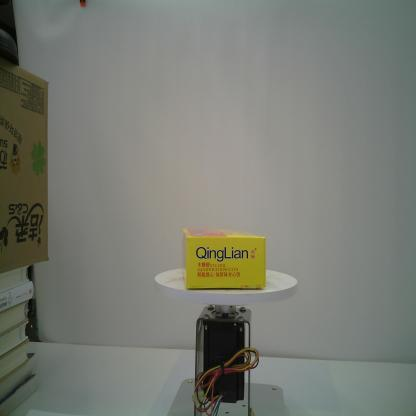Dessert: (179, 226, 269, 292)
